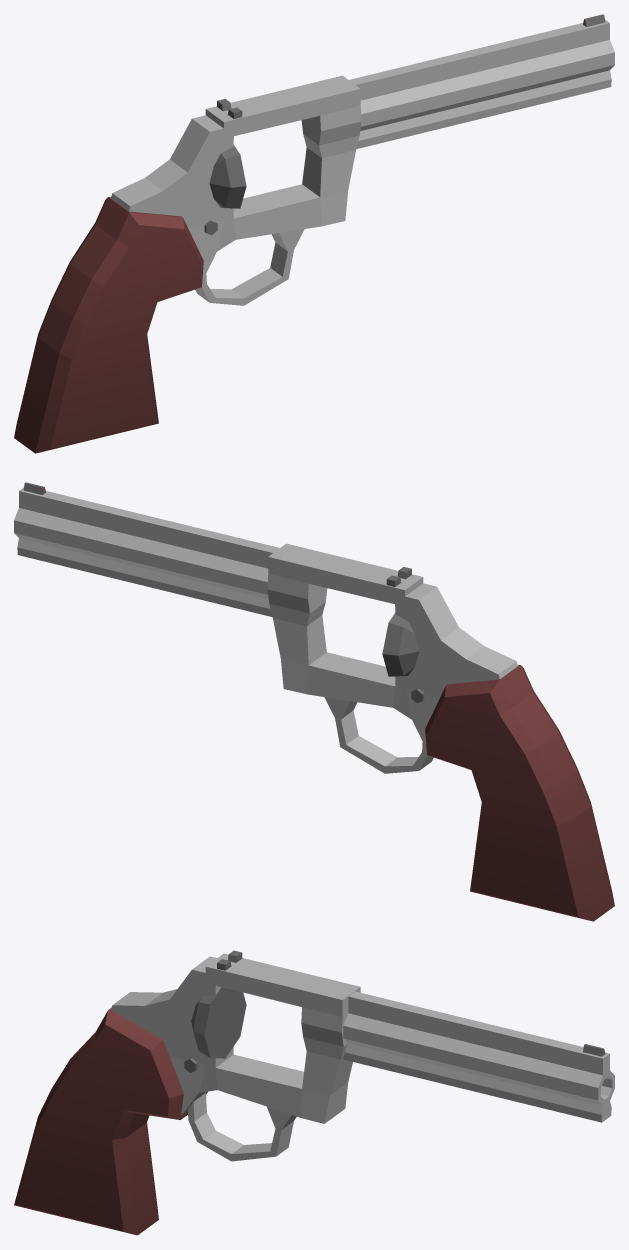
Rendered from Pistol5_03.fbx.
3 renders of one model, top to bottom at view 1: azimuth 30°, elevation 25°; view 2: azimuth 150°, elevation 25°; view 3: azimuth 330°, elevation 25°, orthographic.
Visible parts, largest first — view 1: Pistol5_03; view 2: Pistol5_03; view 3: Pistol5_03.
Boxes of the visible parts, x1,y1,x2,y2 form: Pistol5_03: (14, 14, 614, 453); Pistol5_03: (14, 482, 614, 921); Pistol5_03: (14, 950, 614, 1235).
Bounding box in the file's own units: 0.3781 × 0.18 × 0.0474.
